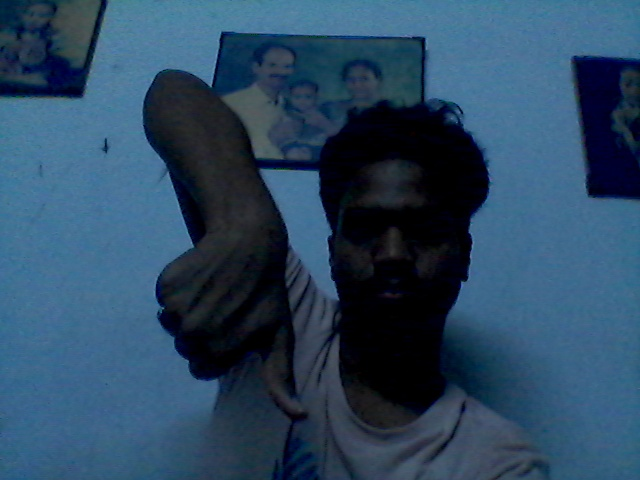Please: (141, 221, 333, 426)
